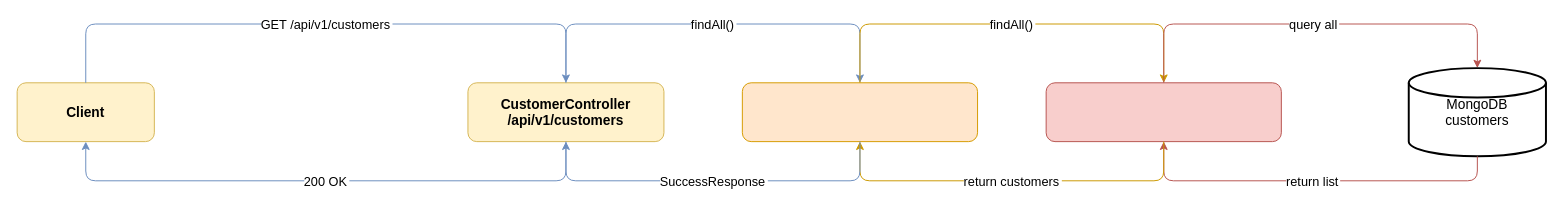
The diagram is 1564 pixels wide and 206 high, and some of its shapes have lost their labels. The centre of each missing label's shape, as x and y in pixels:
CustomerApplicationService: (x=859, y=112)
MongoCustomerRepository: (x=1163, y=112)
